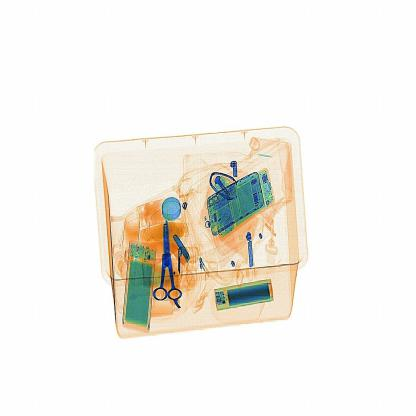gun: (151, 213, 184, 312)
